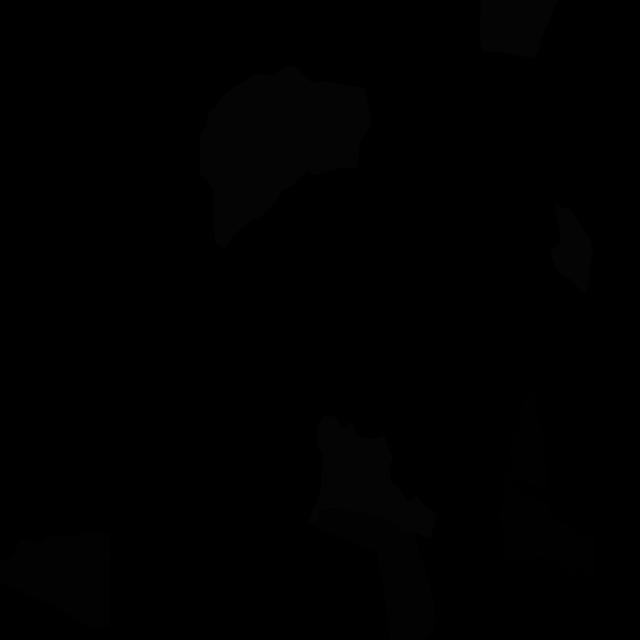cardboard: (316, 509, 436, 640), (0, 532, 110, 630)
rigid_plastic: (498, 384, 596, 579)
soft_plastic: (200, 65, 371, 249), (309, 416, 436, 539), (480, 0, 557, 58), (550, 202, 593, 292)
